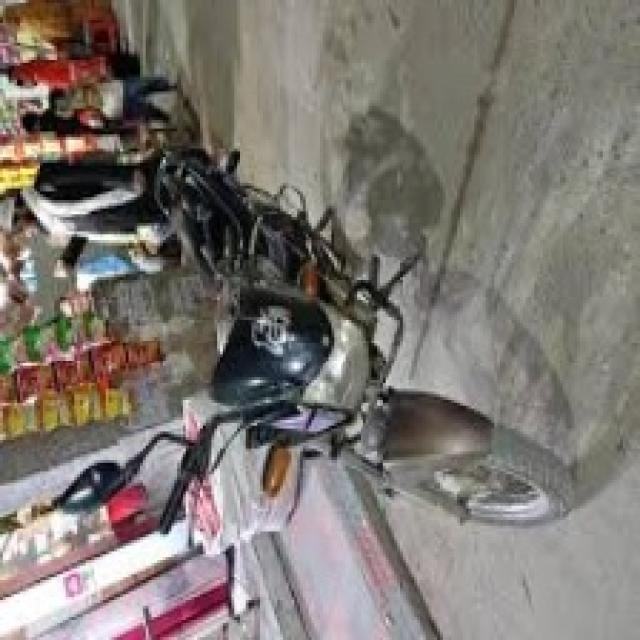bike: (163, 137, 554, 529)
